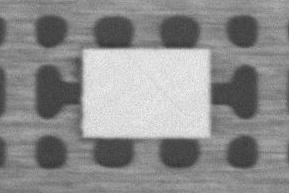DIE_CRACK: (186, 34, 277, 77)
